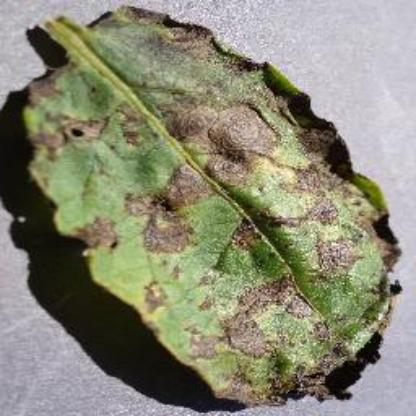Early-Blight: (17, 11, 400, 406)
